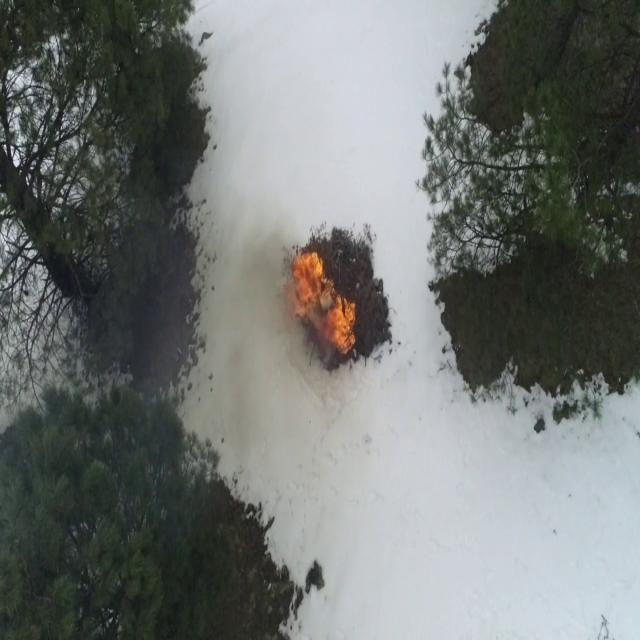fire: (290, 250, 322, 320), (328, 295, 356, 353)
